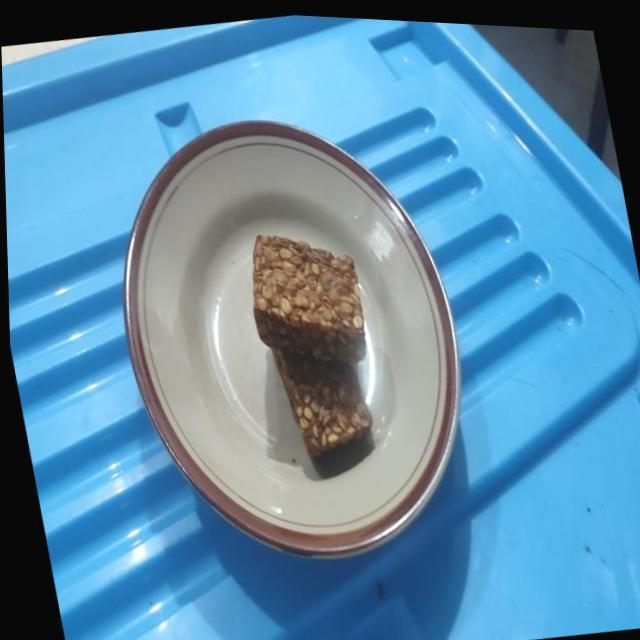tempe_goreng: (253, 235, 364, 362), (272, 348, 372, 462)
